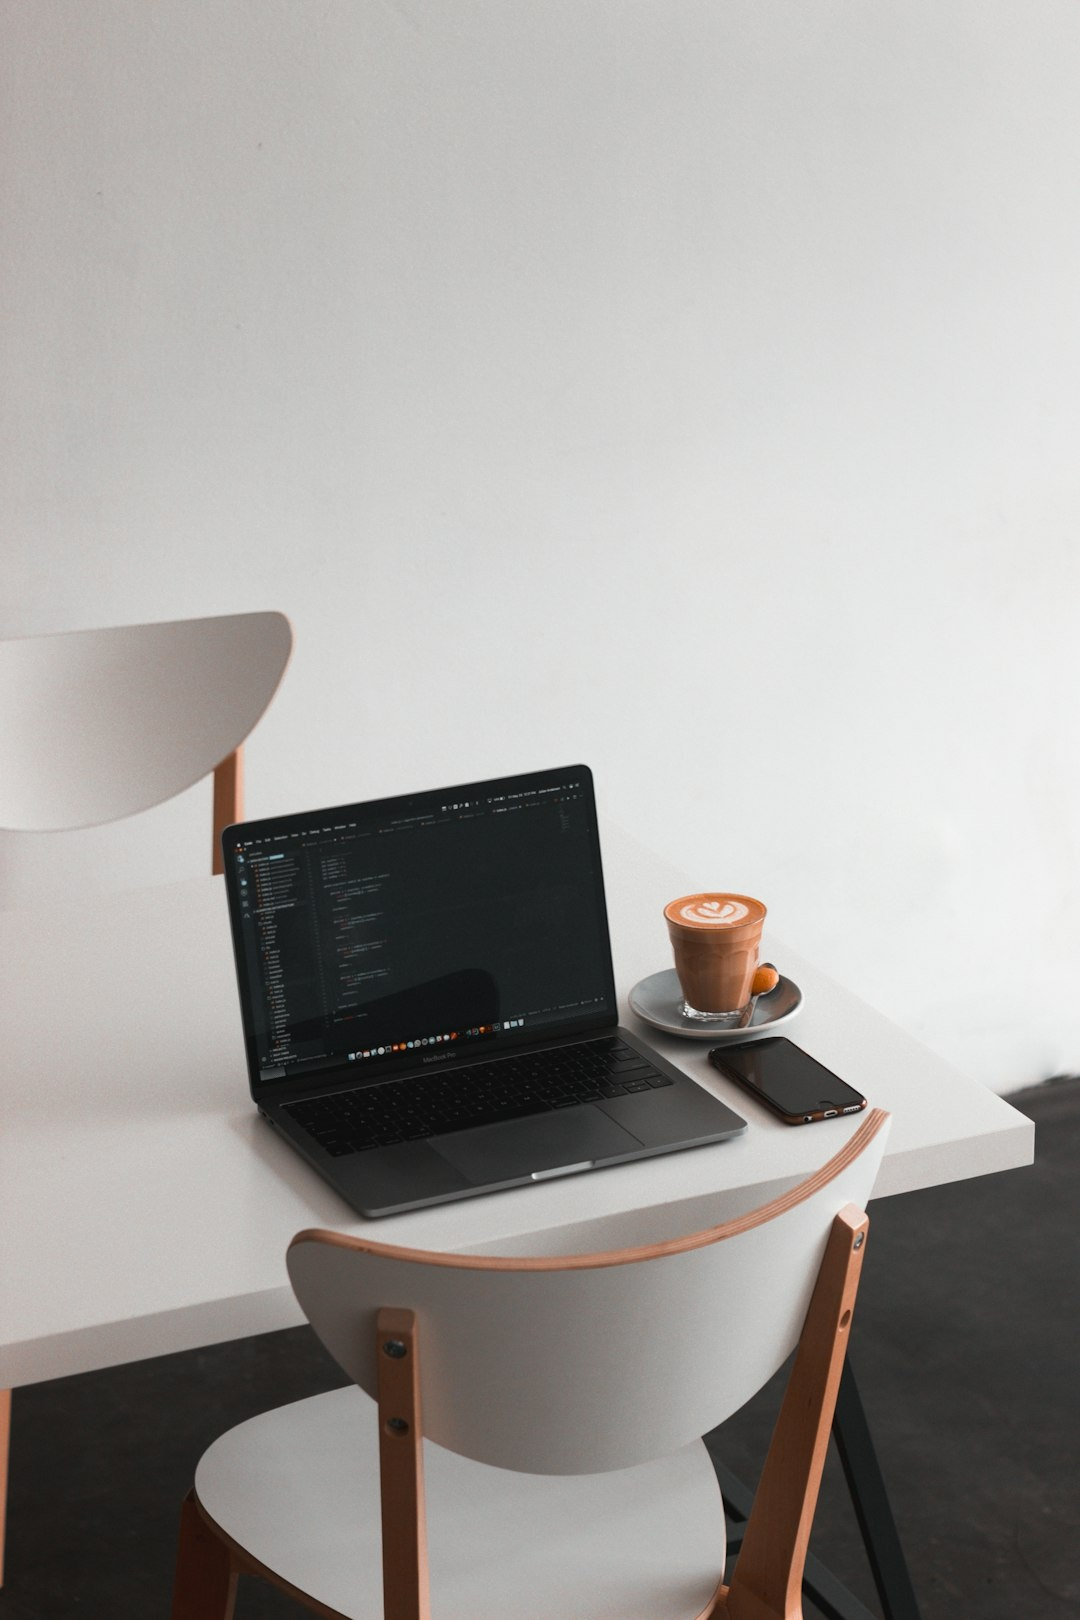laptop: (190, 712, 742, 1217)
